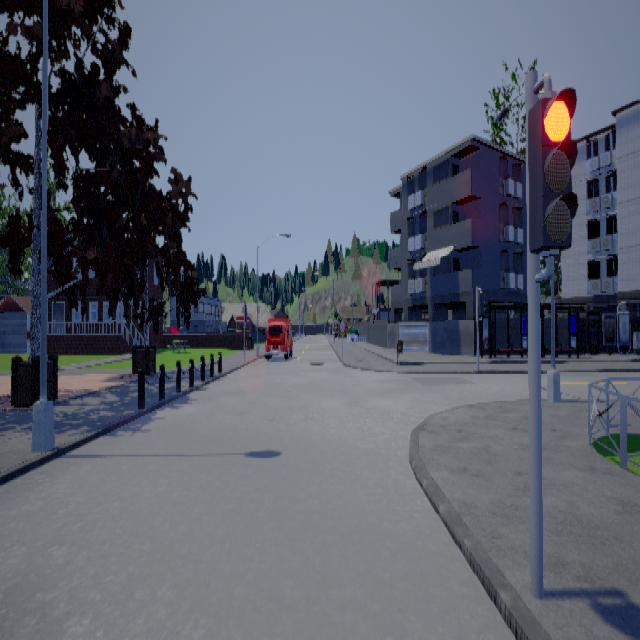red_light: (527, 71, 578, 281)
vehicle: (264, 316, 292, 358)
